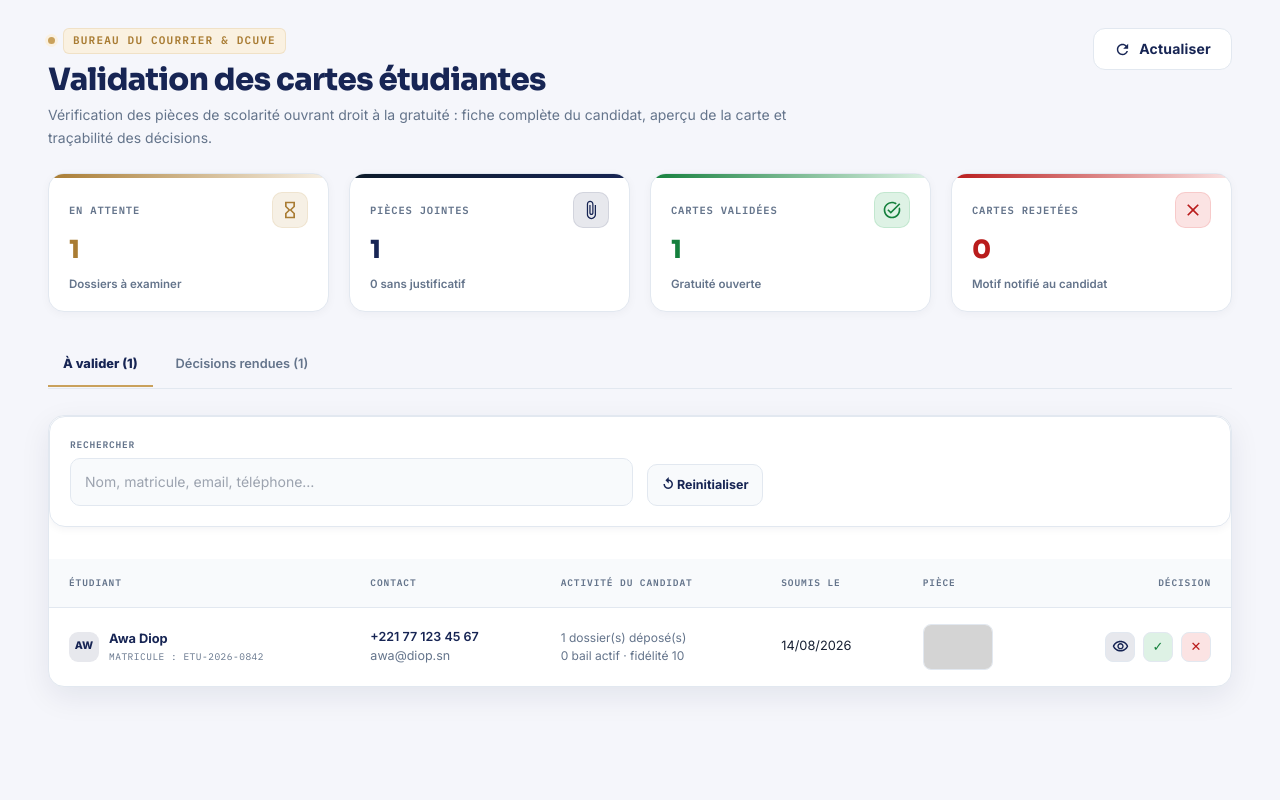
Test: ValidationCartes › bascule sur l onglet des décisions rendues
Expected: the text "Awa Diop" is shown, 109,631 -> 168,646
Click the button "Décisions rendues (1)" at {"x": 242, "y": 366}, box 161,344 -> 323,387
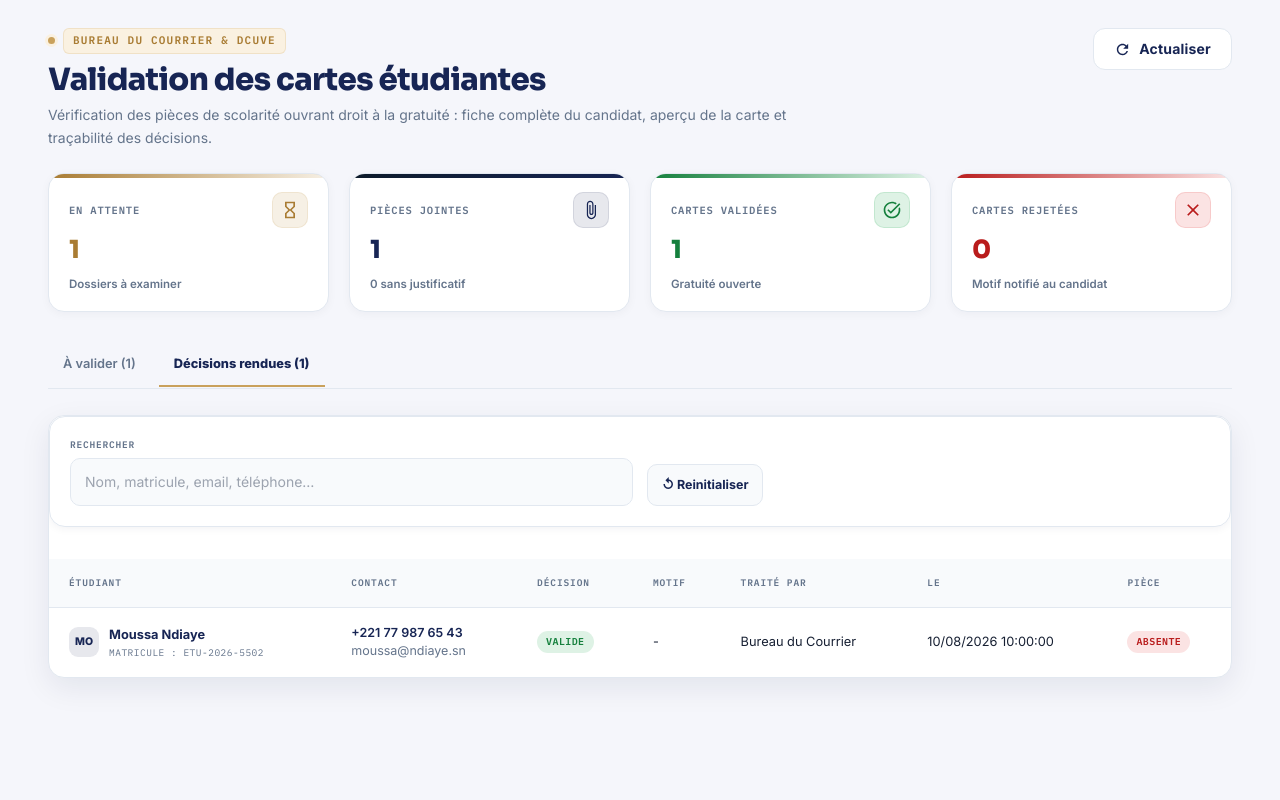
Result: the text "Moussa Ndiaye" is shown at 109,626 -> 205,642
